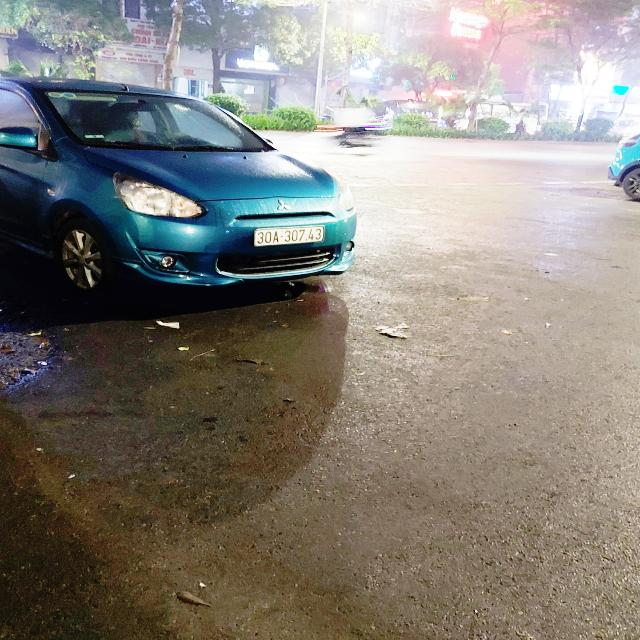license_plate: (253, 224, 329, 249)
